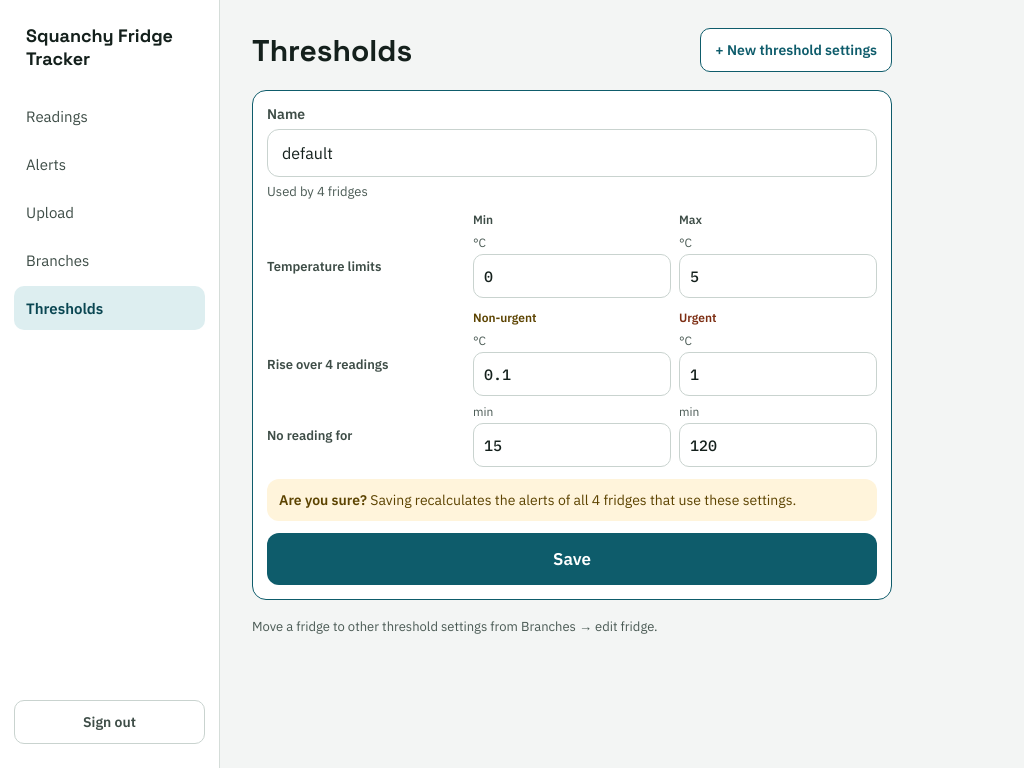
Test: ThresholdsPage save › replaces the open threshold settings with the typed values
Replace the text in the field named "Gap non-urgent, minutes" with "30" at coordinates (572, 445), box [473,423,671,467]
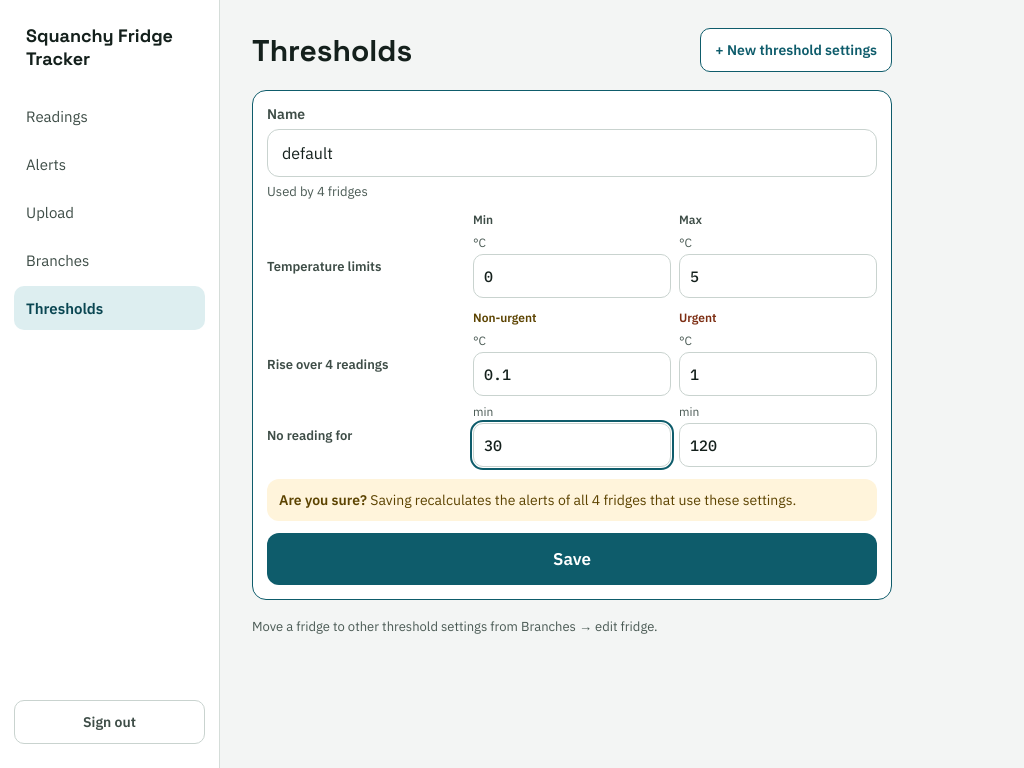
Click the button "Save" at coordinates (572, 559), box [267,533,877,585]
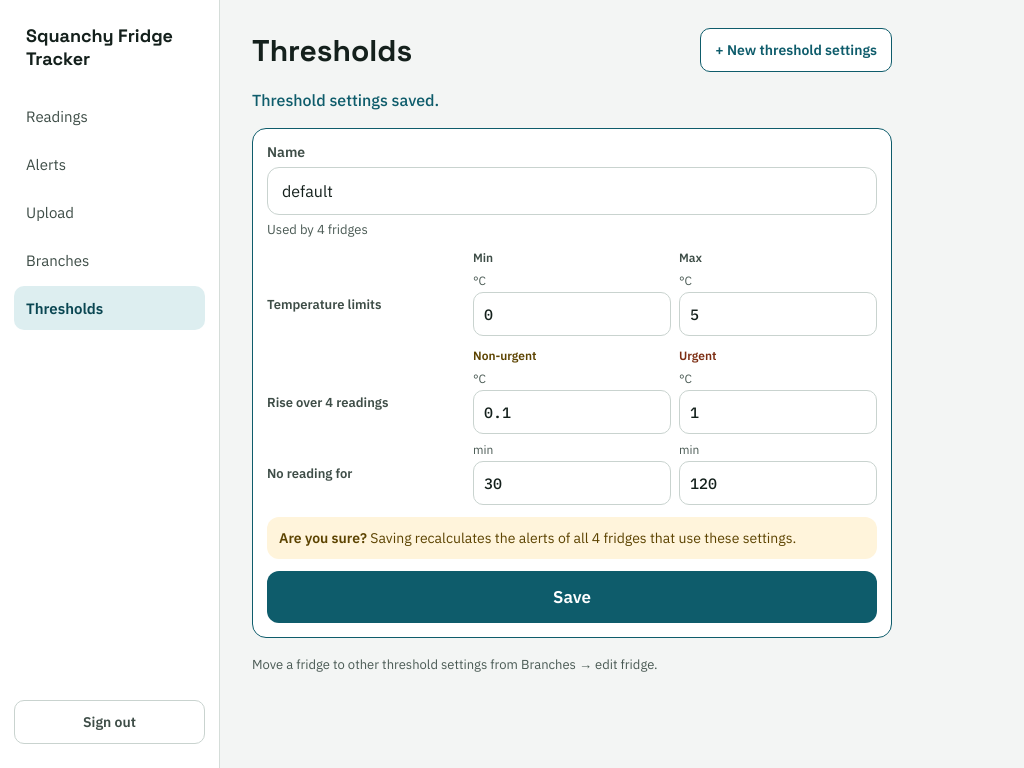
Now the message reads "Threshold settings saved.", box [252,90,439,110]
